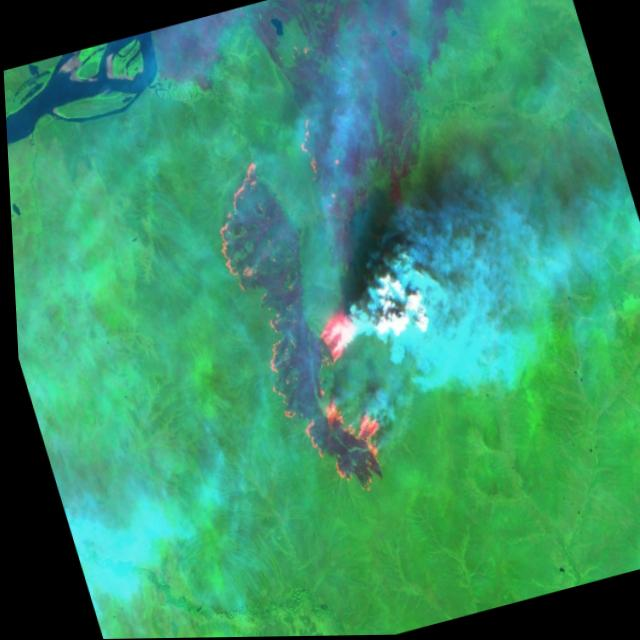fire: (182, 103, 449, 521)
